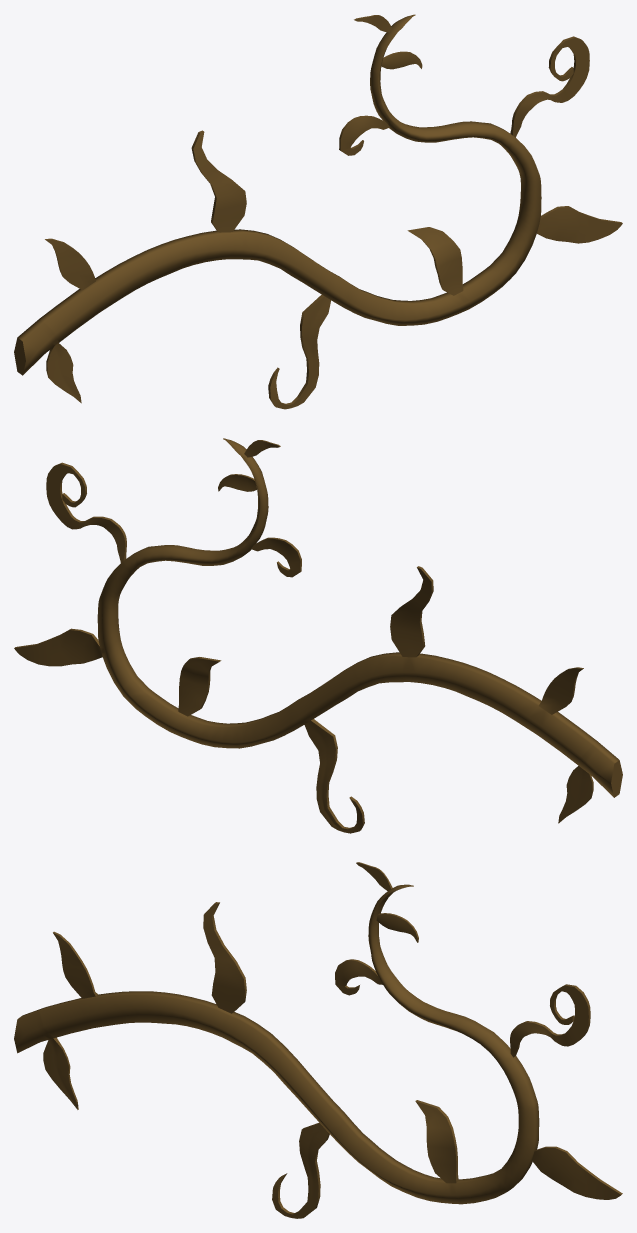
File: Vine1.fbx
3 renders of one model, top to bottom at view 1: azimuth 30°, elevation 25°; view 2: azimuth 150°, elevation 25°; view 3: azimuth 330°, elevation 25°, orthographic.
Visible parts, largest first — view 1: Vine; view 2: Vine; view 3: Vine.
Part boxes in pixels (<box>): Vine: <box>14,14,622,409</box>; Vine: <box>14,438,622,833</box>; Vine: <box>14,862,622,1218</box>.
Size of the model in its own units: 1842 by 1086 by 81.05.
